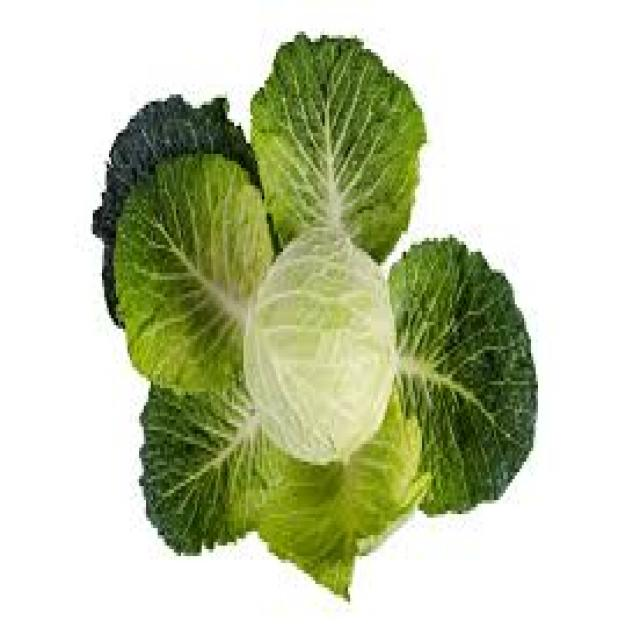organic waste: (88, 25, 536, 598), (239, 227, 389, 462)
